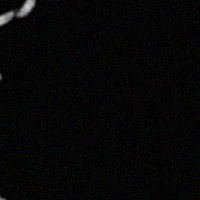chromosome: (0, 0, 34, 27), (0, 47, 2, 81), (0, 192, 6, 200), (45, 0, 61, 2)
